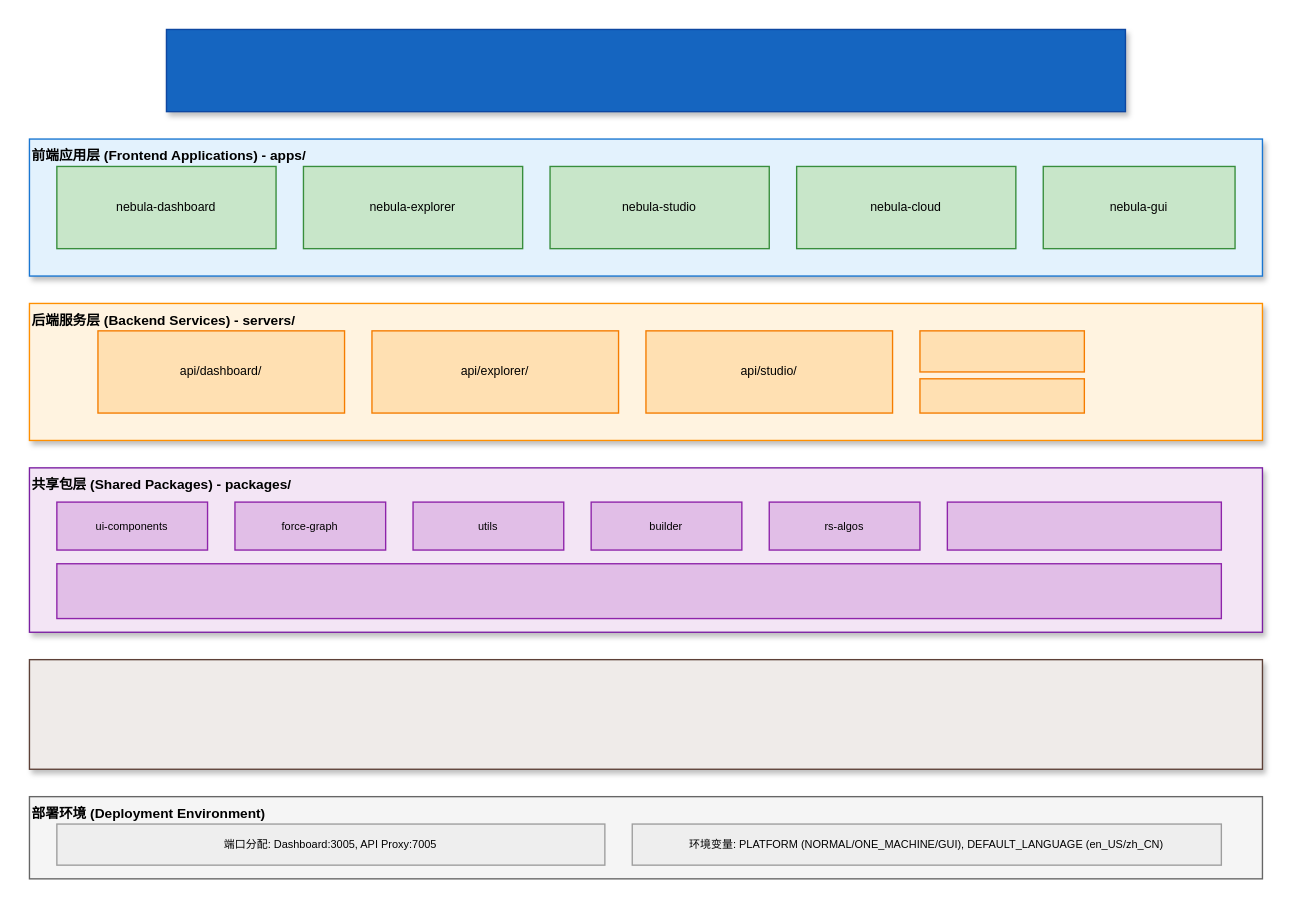
Some shapes in this 1295 by 903 pixel diagram are drawn without their labels. The centre of each missing label's shape, as x and y in pixels:
config-*: (x=1083, y=525)
NebulaGraph 可视化应用平台 - Turborepo 单体仓库架构: (x=647, y=72)
pkg/: (x=1001, y=350)
pnpm Workspaces + Turbo 任务编排: (x=638, y=590)
tools/: (x=1001, y=395)
数据存储层 (Data Storage Layer): (x=647, y=716)
